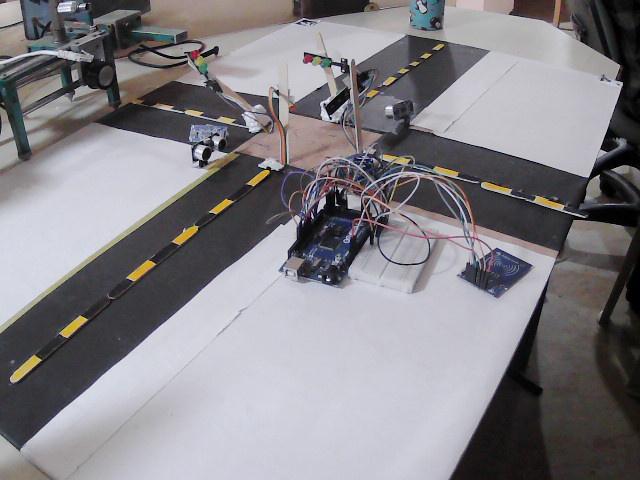aruco_marker: (596, 71, 626, 90), (294, 16, 324, 30)
black_strip: (80, 292, 112, 323), (36, 330, 64, 360), (112, 276, 139, 300), (151, 234, 175, 261), (227, 179, 250, 201), (508, 190, 535, 204), (194, 206, 213, 225), (411, 158, 431, 175), (562, 205, 586, 217), (458, 172, 481, 183), (198, 111, 217, 120), (142, 97, 157, 106), (172, 104, 185, 114), (231, 118, 244, 128)
mixed_lane: (5, 163, 271, 377), (377, 152, 589, 219), (131, 97, 243, 126)
traffic_light: (182, 44, 233, 107), (293, 39, 351, 81), (316, 75, 358, 123), (262, 93, 306, 114)
uno_breadboard: (286, 195, 390, 284), (330, 190, 417, 296), (452, 244, 536, 299), (189, 129, 228, 160), (187, 120, 229, 145), (379, 97, 417, 121)
yellow_strip: (11, 354, 39, 380), (61, 313, 85, 335), (380, 151, 409, 168), (134, 257, 153, 280), (172, 225, 198, 241), (536, 196, 562, 211), (250, 164, 267, 185), (209, 197, 230, 213), (484, 182, 509, 195), (401, 59, 415, 75), (433, 167, 457, 176), (187, 109, 201, 117), (218, 117, 233, 124), (367, 87, 377, 96), (157, 104, 172, 110), (421, 51, 432, 59), (386, 74, 394, 83), (432, 42, 442, 48), (131, 98, 142, 103)
